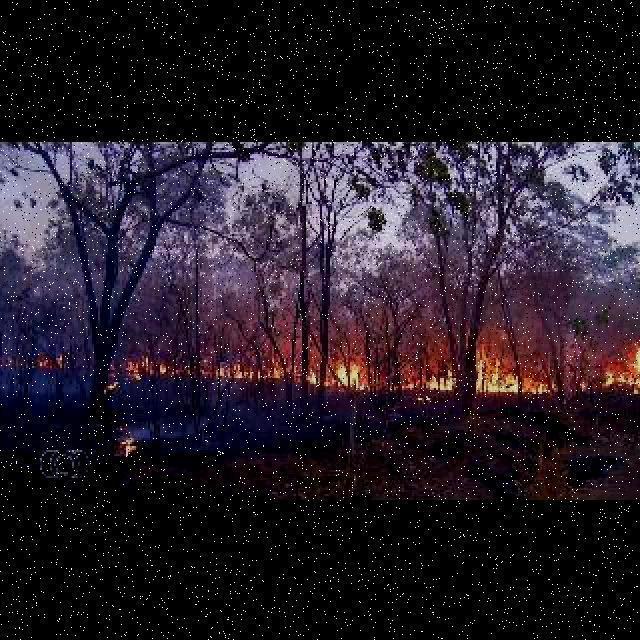Fire: (122, 344, 360, 382), (408, 336, 552, 392), (602, 354, 638, 404), (38, 352, 76, 368), (116, 434, 142, 456)
